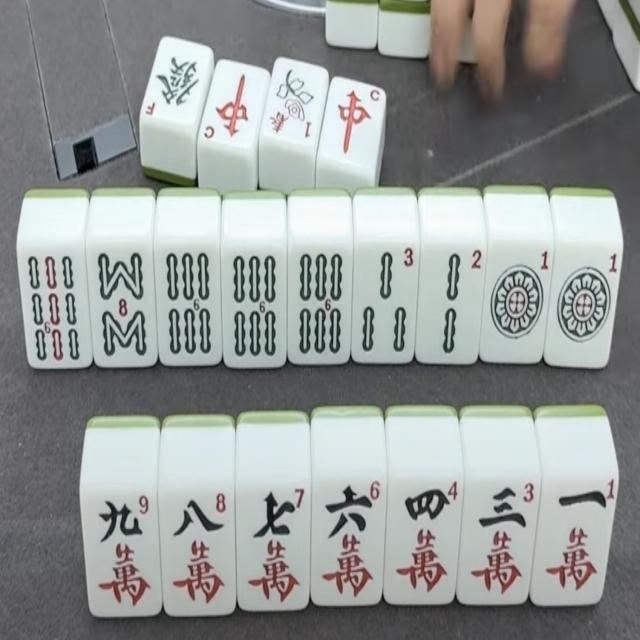fa: (142, 42, 210, 126)
ff1: (268, 60, 314, 142)
m1: (536, 474, 620, 603)
m3: (463, 475, 542, 604)
m4: (384, 477, 461, 602)
m6: (314, 477, 388, 605)
m7: (238, 482, 311, 609)
m8: (159, 486, 233, 612)
m9: (83, 487, 161, 614)
s2: (418, 243, 484, 362)
s3: (353, 244, 418, 360)
s6: (154, 243, 218, 363), (222, 247, 286, 366), (288, 246, 350, 362)
s8: (88, 245, 157, 365)
s9: (12, 243, 89, 369)
t1: (548, 246, 625, 368), (484, 242, 555, 360)
zhong: (322, 80, 388, 170), (203, 64, 264, 150)
